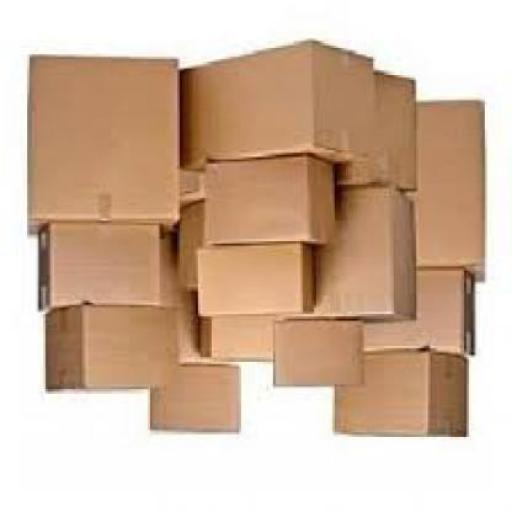cardboard: (30, 55, 182, 237), (180, 41, 380, 171), (266, 192, 416, 326), (414, 100, 487, 286), (48, 305, 185, 394), (209, 157, 340, 250), (40, 220, 164, 314), (336, 352, 470, 438), (366, 268, 478, 362), (340, 70, 421, 196), (200, 246, 318, 320), (153, 366, 246, 438), (275, 325, 369, 391), (164, 230, 200, 364), (202, 321, 273, 366), (180, 202, 206, 296)
